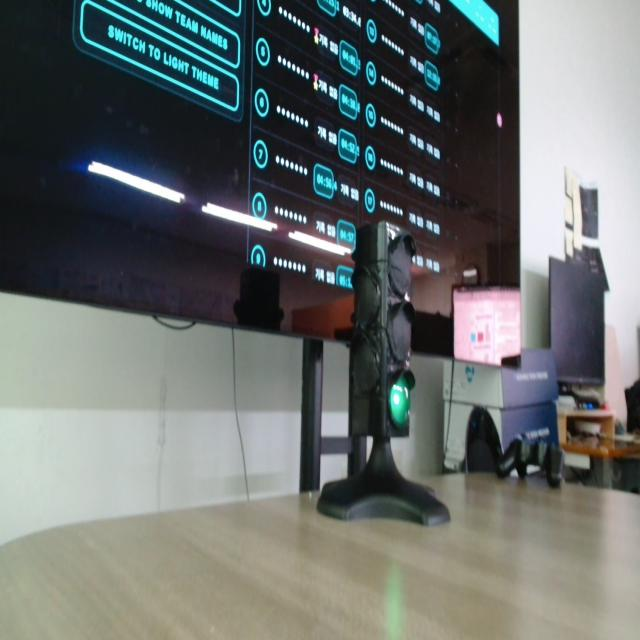green_light: (390, 375, 410, 428)
